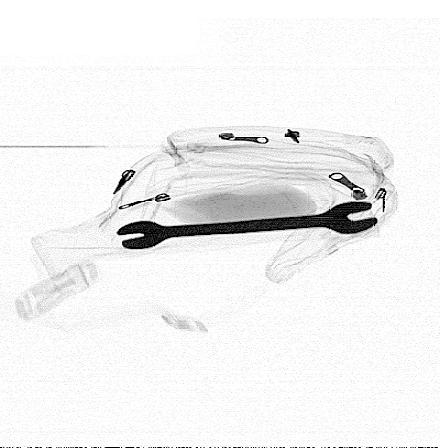Wrench: (114, 200, 379, 251)
